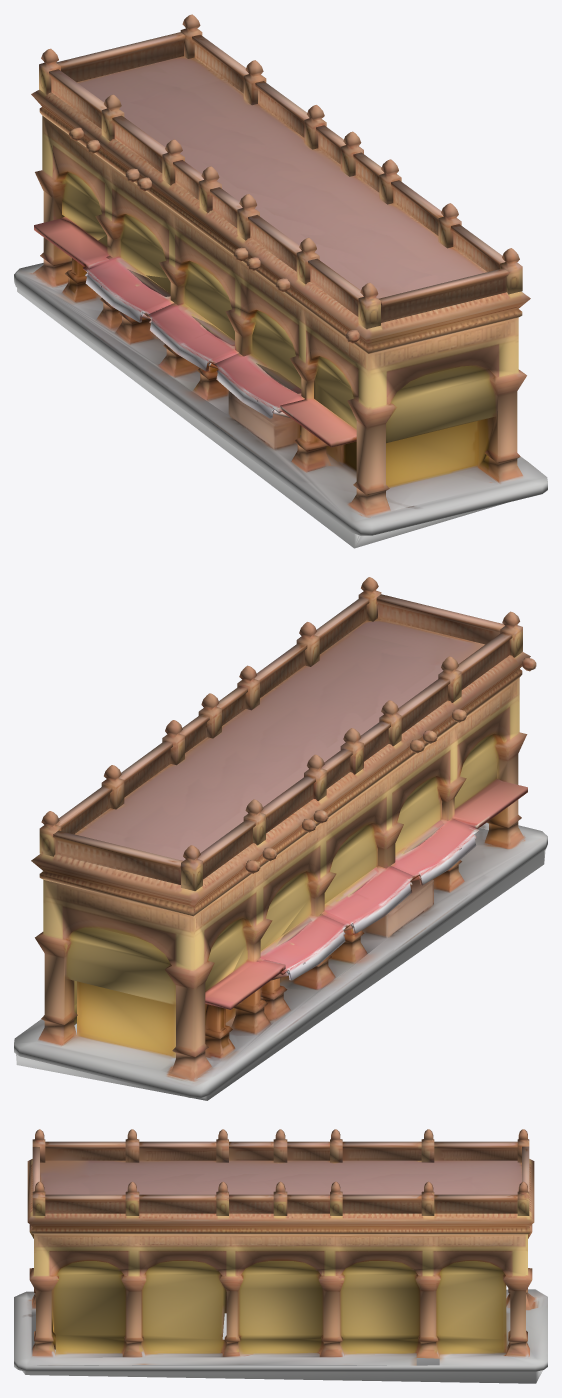
Rendered from Mercado.fbx.
3 renders of one model, top to bottom at view 1: azimuth 30°, elevation 25°; view 2: azimuth 150°, elevation 25°; view 3: azimuth 270°, elevation 25°, orthographic. The views are drawn at different scales.
Parts seen in each view (by area): view 1: LoricaCC; view 2: LoricaCC; view 3: LoricaCC.
Boxes of the visible parts, bbox=[...] form: LoricaCC: bbox=[14, 14, 547, 548]; LoricaCC: bbox=[14, 577, 547, 1100]; LoricaCC: bbox=[14, 1129, 547, 1383].
Size of the model in its own units: 35.91 by 43.25 by 109.
Materials: 1 (1 with a texture image).
